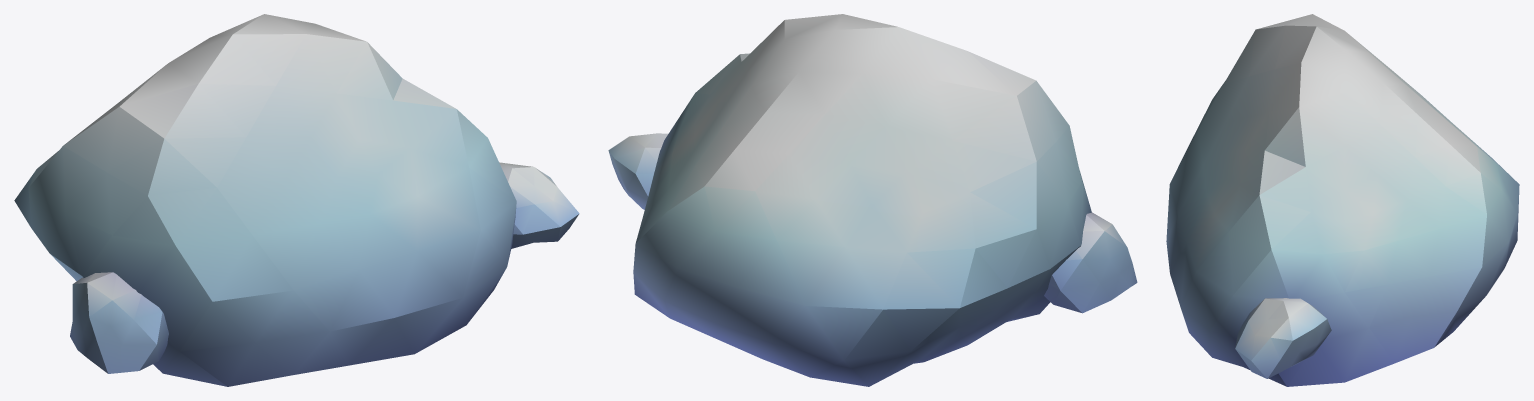
The model's file is glass_rock_chunk_a.glb.
3 views of the same model, side by side, from view 1: azimuth 30°, elevation 25°; view 2: azimuth 150°, elevation 25°; view 3: azimuth 270°, elevation 25° (orthographic). The views are drawn at different scales.
Parts seen in each view (by area): view 1: glass_rock_chunk_a; view 2: glass_rock_chunk_a; view 3: glass_rock_chunk_a.
Boxes of the visible parts, <box> form: glass_rock_chunk_a: <box>14,14,579,386</box>; glass_rock_chunk_a: <box>608,14,1137,386</box>; glass_rock_chunk_a: <box>1166,14,1519,386</box>.
Bounding box in the file's own units: 2.21 × 1.24 × 1.53.
